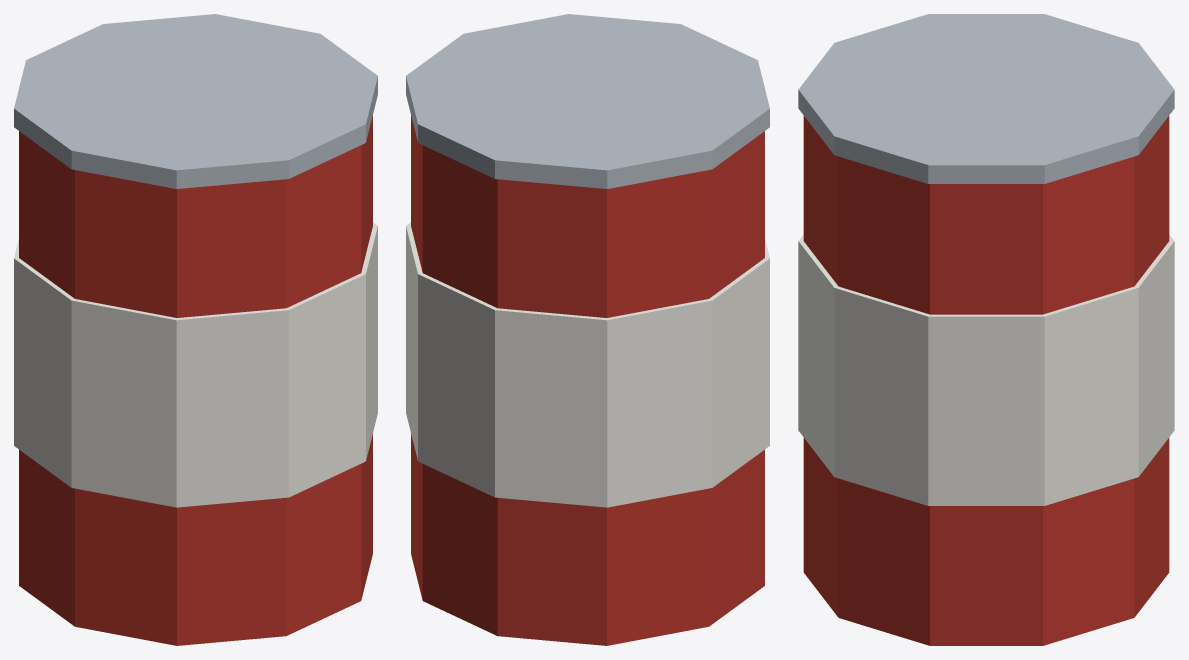
File: can.fbx
3 views of the same model, side by side, from view 1: azimuth 30°, elevation 25°; view 2: azimuth 150°, elevation 25°; view 3: azimuth 270°, elevation 25° (orthographic).
Parts seen in each view (by area): view 1: can; view 2: can; view 3: can.
Boxes of the visible parts, box(x1,y1,x2,y2) form: can: box(14, 14, 377, 645); can: box(406, 14, 769, 645); can: box(798, 14, 1174, 645).
Bounding box in the file's own units: 0.2739 × 0.408 × 0.288.
